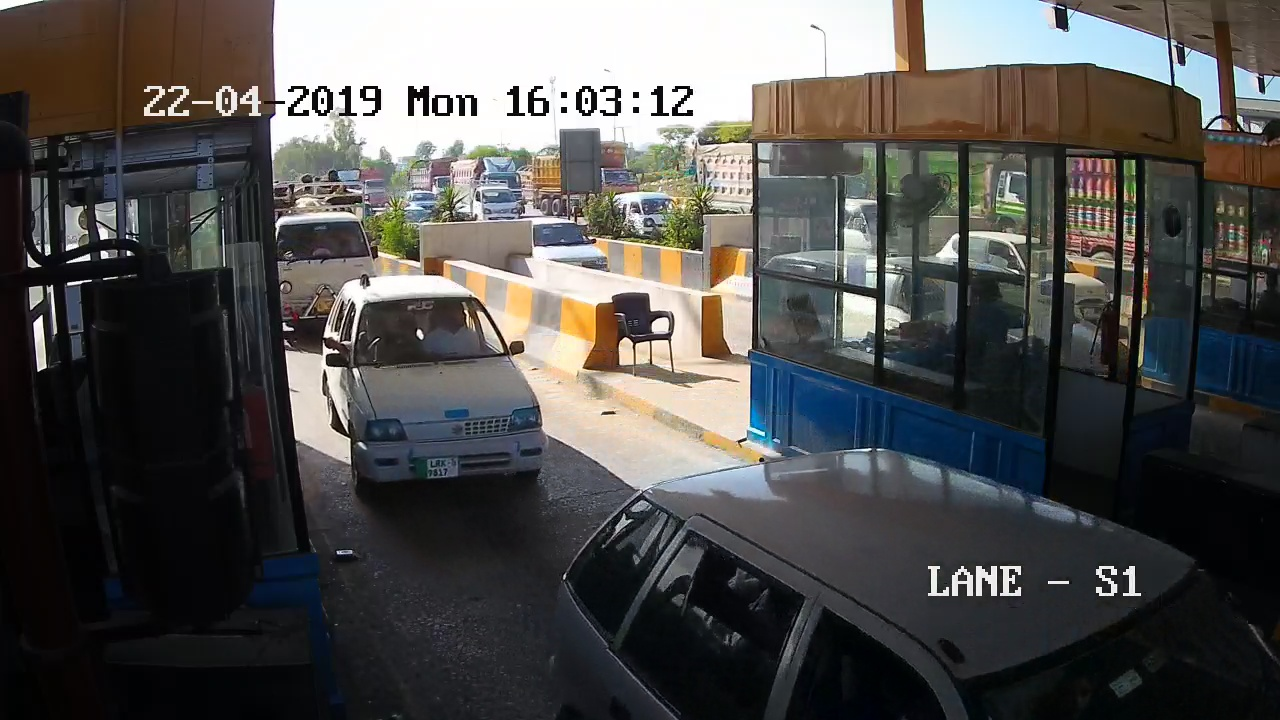Number Plate (Car): (418, 457, 458, 480)
